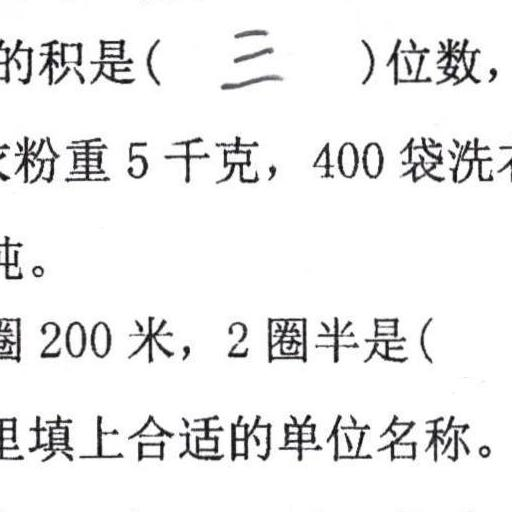ans: (214, 19, 284, 93)
